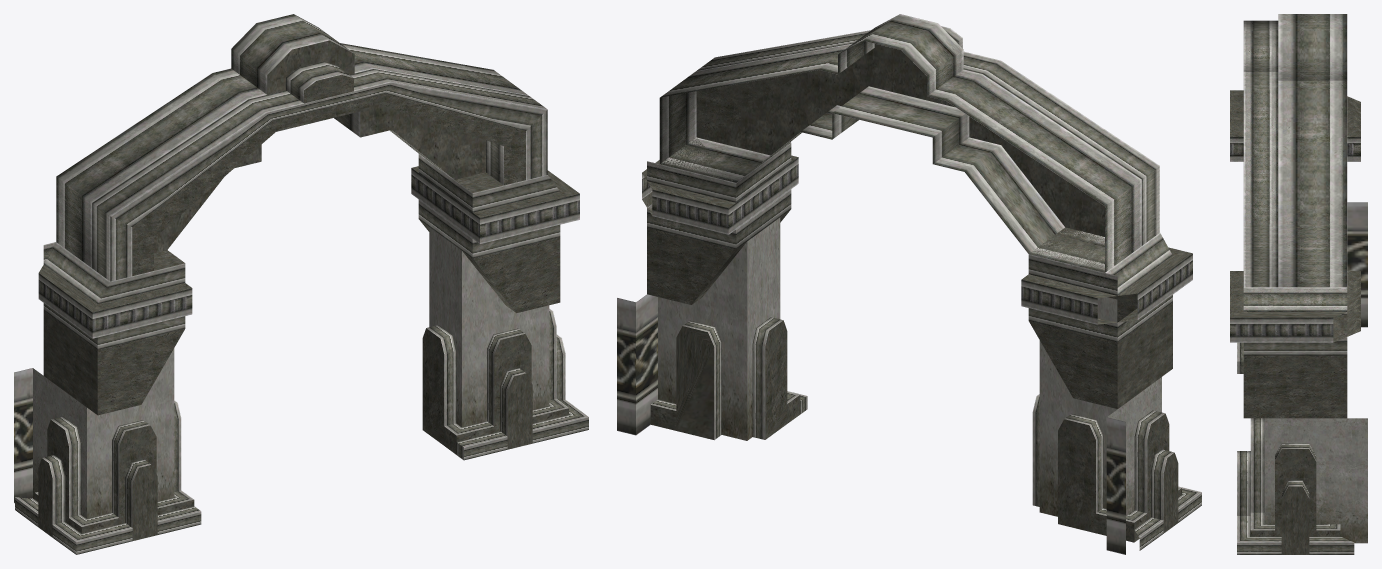
The model's file is MAINHALL_DOOR_FRAME.fbx.
3 renders of one model, left to right at view 1: azimuth 30°, elevation 25°; view 2: azimuth 150°, elevation 25°; view 3: azimuth 270°, elevation 25°, orthographic. The views are drawn at different scales.
Parts seen in each view (by area): view 1: MAINHALL_DOOR_FRAME; view 2: MAINHALL_DOOR_FRAME; view 3: MAINHALL_DOOR_FRAME.
Boxes of the visible parts, bbox=[...] form: MAINHALL_DOOR_FRAME: bbox=[14, 14, 588, 554]; MAINHALL_DOOR_FRAME: bbox=[617, 14, 1201, 554]; MAINHALL_DOOR_FRAME: bbox=[1230, 14, 1367, 554].
Size of the model in its own units: 82078 by 66000 by 20000.
6 materials, 6 textured.
